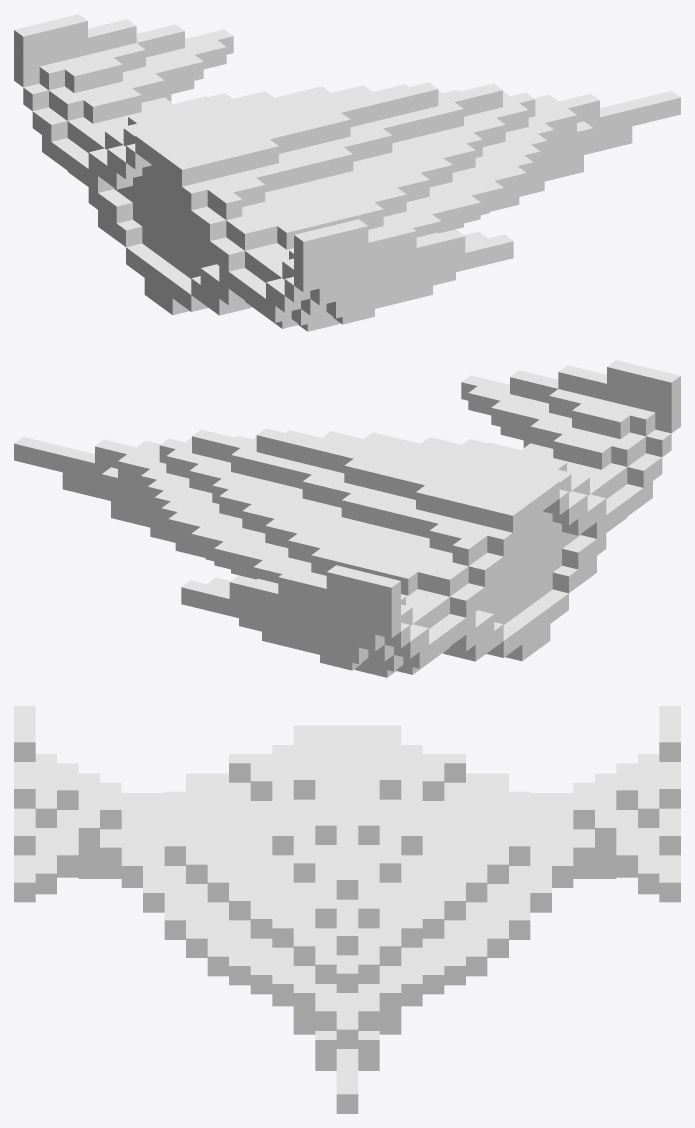
Rendered from Spacecraft_comete.gltf.
3 renders of one model, top to bottom at view 1: azimuth 30°, elevation 25°; view 2: azimuth 150°, elevation 25°; view 3: azimuth 270°, elevation 25°, orthographic. The views are drawn at different scales.
Visible parts, largest first — view 1: Layer.1; view 2: Layer.1; view 3: Layer.1.
Part boxes in pixels (x1,y1,x2,y2): Layer.1: (14, 14, 680, 331); Layer.1: (14, 360, 680, 677); Layer.1: (14, 706, 680, 1113).
Size of the model in its own units: 32 by 10 by 31.
Materials: 1 (1 with a texture image).
